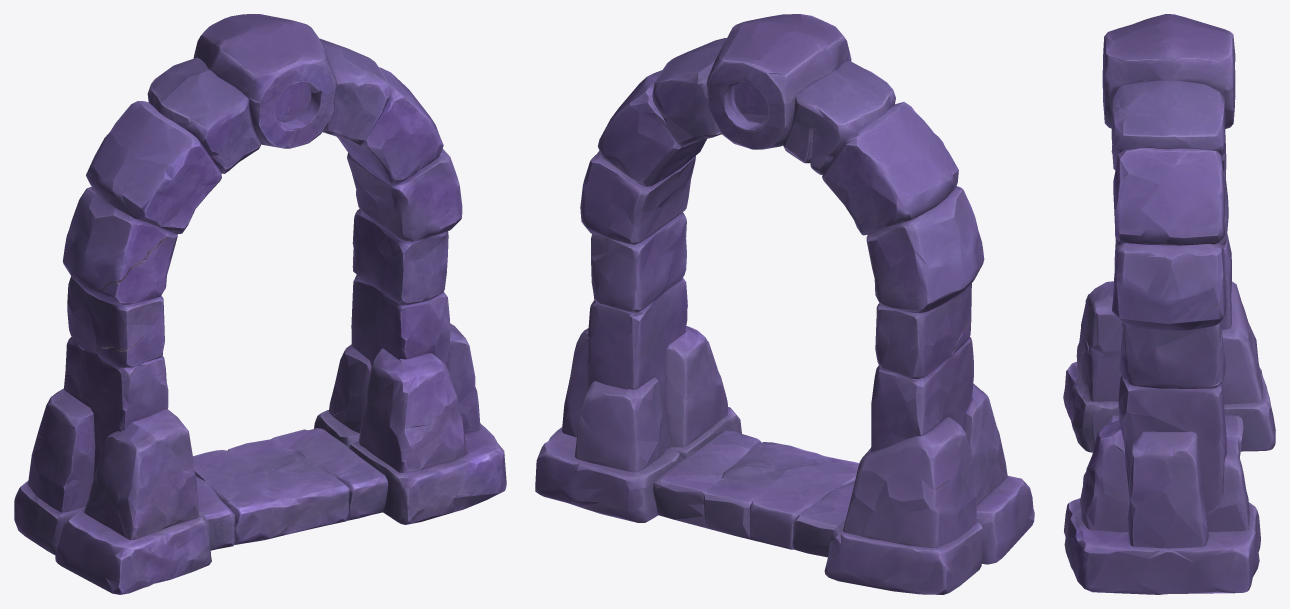
Rendered from portale.glb.
The picture shows the model from 3 angles, left to right: view 1: azimuth 30°, elevation 25°; view 2: azimuth 150°, elevation 25°; view 3: azimuth 270°, elevation 25°; orthographic projection. The views are drawn at different scales.
Bounding box in the file's own units: 1.73 × 1.9 × 0.7782.
Materials: 1 (1 with a texture image).
